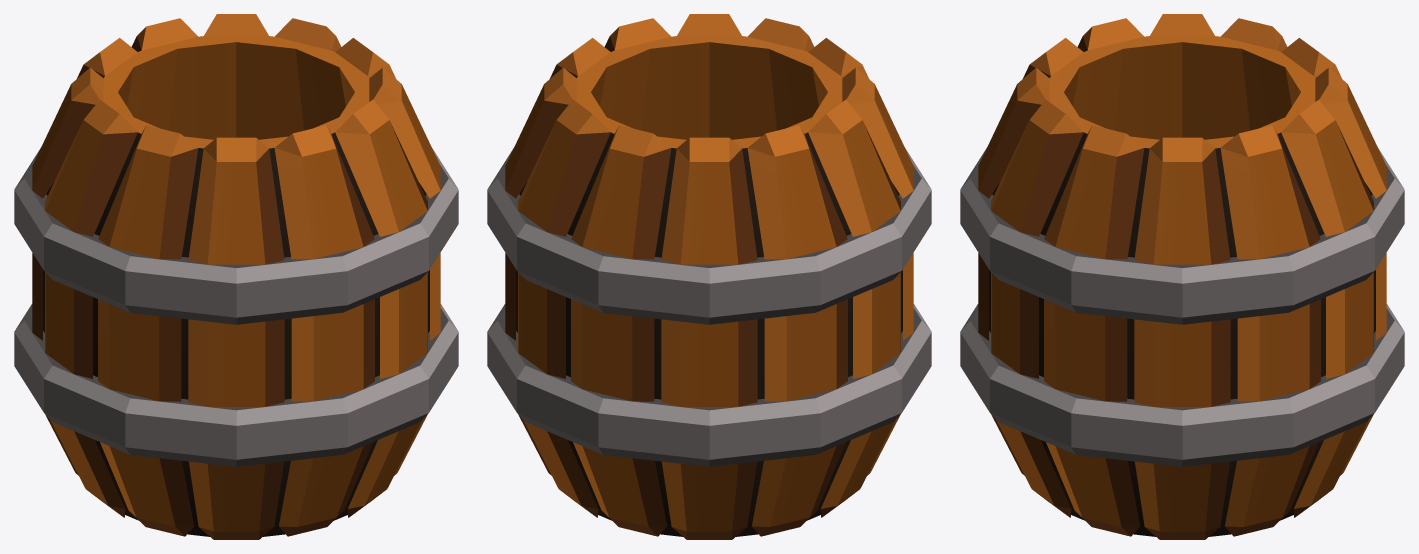
Rendered from wm_barrel_glb.glb.
3 views of the same model, side by side, from view 1: azimuth 30°, elevation 25°; view 2: azimuth 150°, elevation 25°; view 3: azimuth 270°, elevation 25° (orthographic).
Visible parts, largest first — view 1: WM_barrel; view 2: WM_barrel; view 3: WM_barrel.
Boxes of the visible parts, box(x1,y1,x2,y2) form: WM_barrel: box(14, 14, 458, 539); WM_barrel: box(487, 14, 931, 539); WM_barrel: box(960, 14, 1404, 539).
Size of what is drawn, in the model's own units: 1.66 by 1.66 by 1.66.
Materials: 1 (1 with a texture image).
